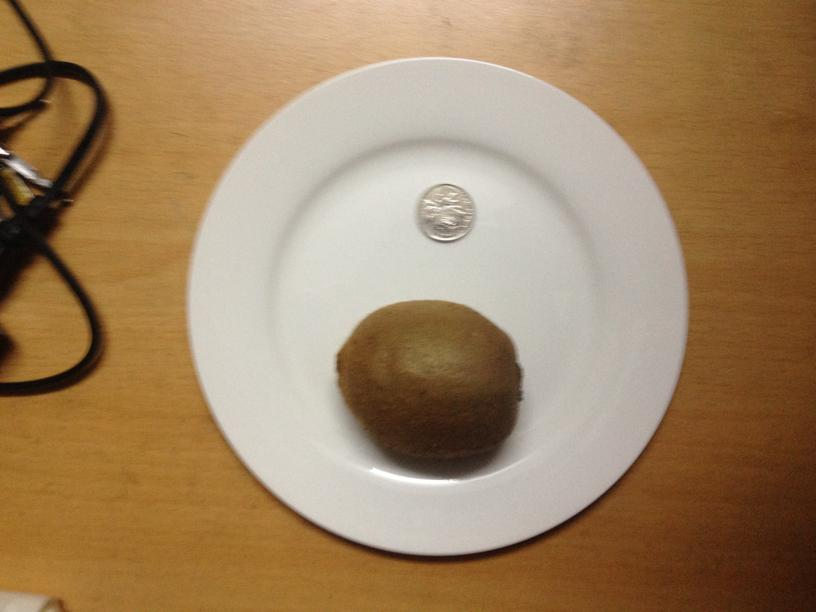coin: (417, 183, 477, 240)
qiwi: (329, 302, 524, 453)
